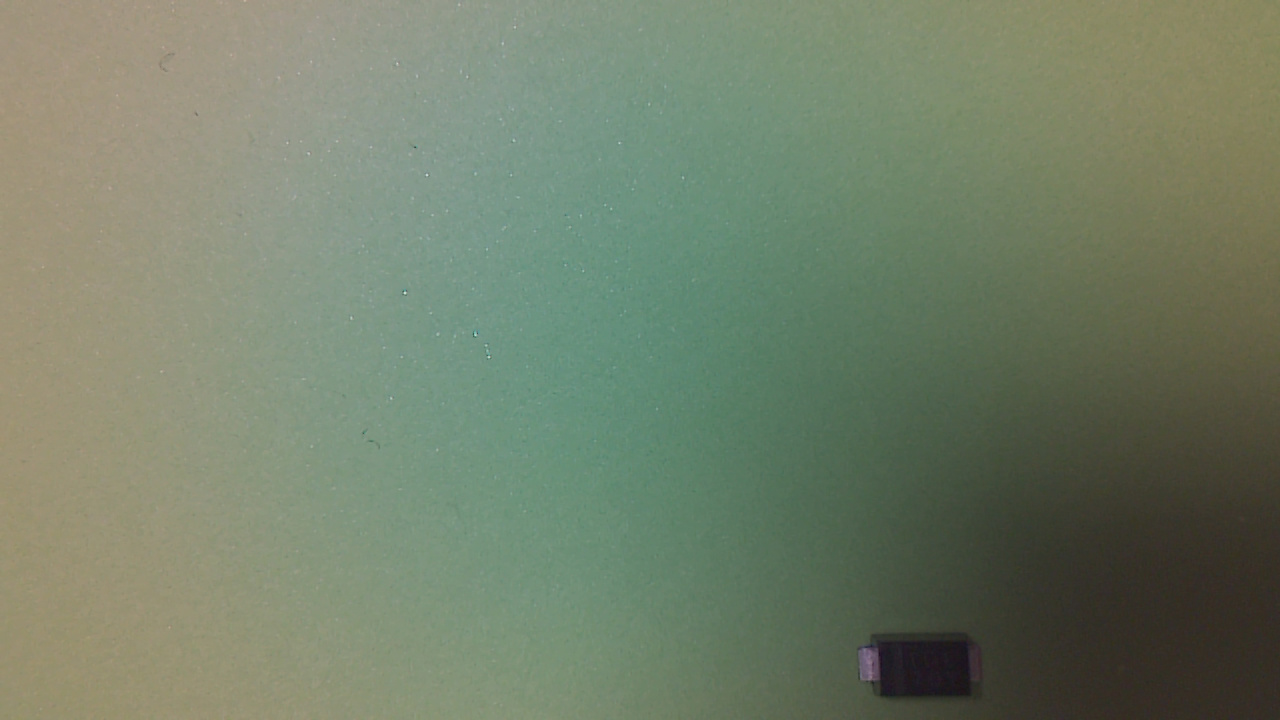Diode: (861, 629, 994, 705)
